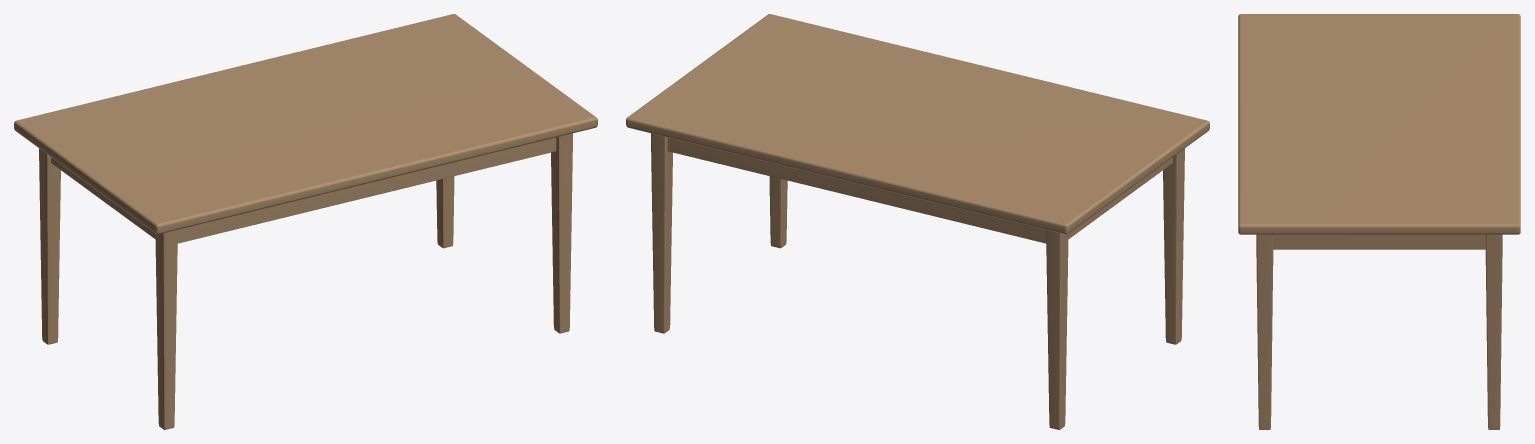
The model's file is DiningTable.fbx.
The picture shows the model from 3 angles, left to right: view 1: azimuth 30°, elevation 25°; view 2: azimuth 150°, elevation 25°; view 3: azimuth 270°, elevation 25°; orthographic projection.
Parts seen in each view (by area): view 1: DiningTableMesh; view 2: DiningTableMesh; view 3: DiningTableMesh.
Part boxes in pixels (x1=…): DiningTableMesh: x1=14, y1=14, x2=597, y2=429; DiningTableMesh: x1=626, y1=14, x2=1209, y2=429; DiningTableMesh: x1=1238, y1=14, x2=1520, y2=429.
Size of the model in its own units: 1.6 by 0.75 by 0.9.
